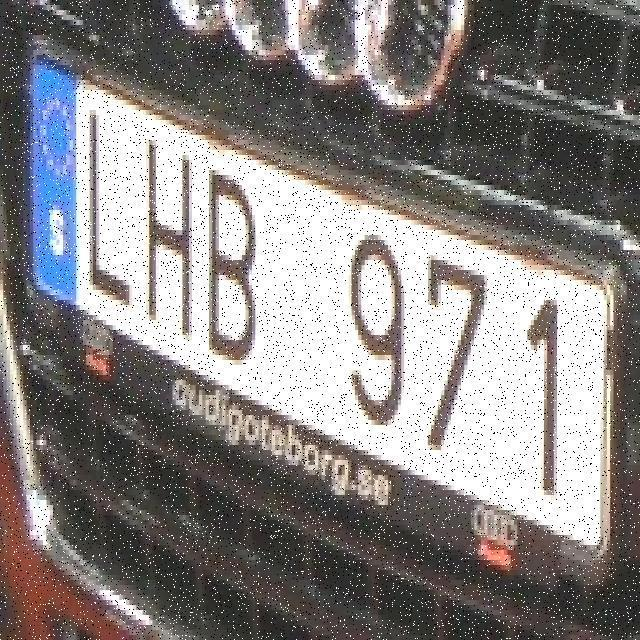LicensePlate: (22, 45, 623, 557)
